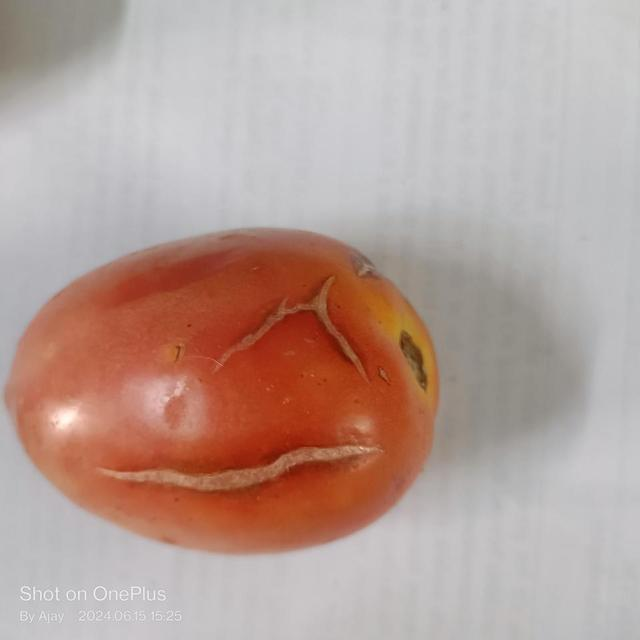Cracking Fruit: (152, 213, 262, 309)
